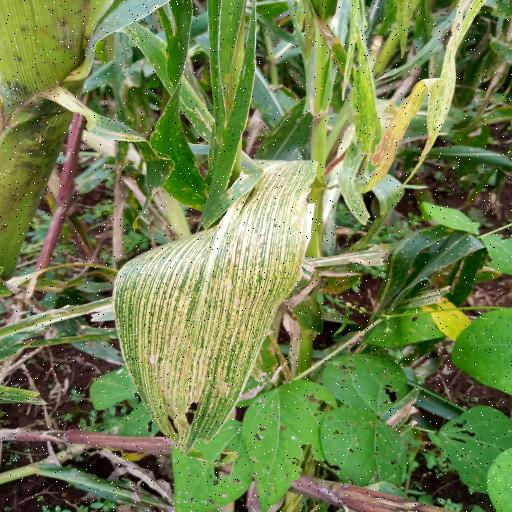Corn_Streak: (118, 148, 320, 442)
